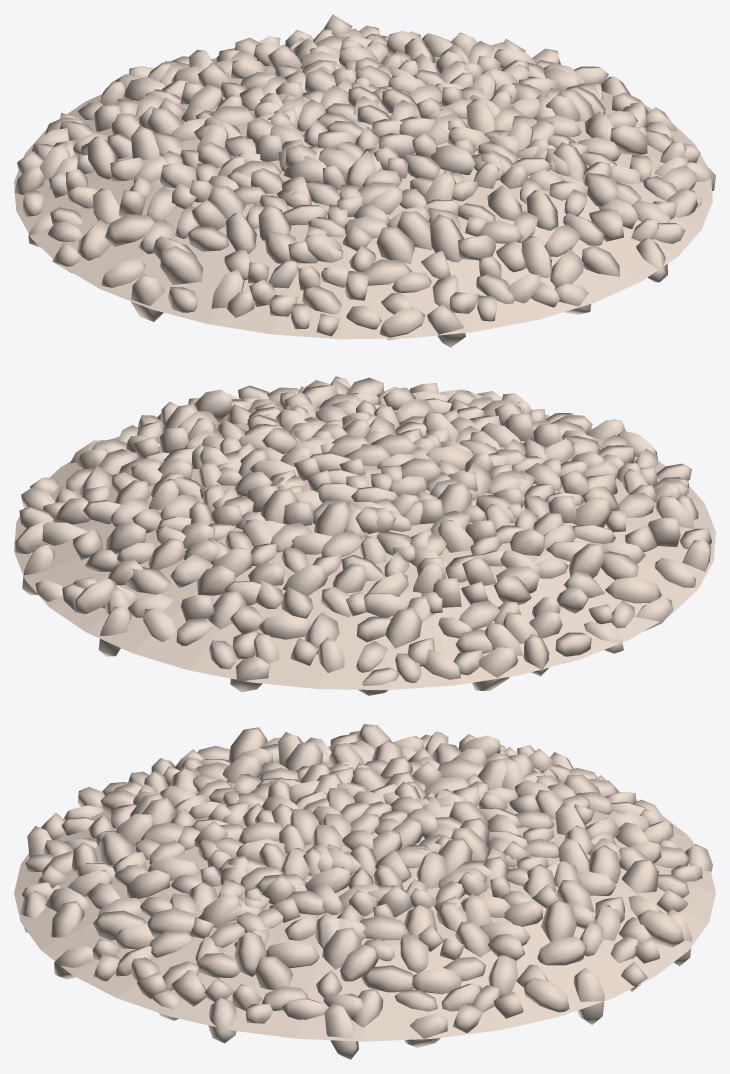
Rendered from Rise.fbx.
3 renders of one model, top to bottom at view 1: azimuth 30°, elevation 25°; view 2: azimuth 150°, elevation 25°; view 3: azimuth 270°, elevation 25°, orthographic.
Visible parts, largest first — view 1: Rice; view 2: Rice; view 3: Rice.
Boxes of the visible parts, bbox=[...] form: Rice: bbox=[14, 14, 715, 347]; Rice: bbox=[14, 376, 715, 695]; Rice: bbox=[14, 724, 715, 1059].
Size of the model in its own units: 0.535 by 0.0892 by 0.5328.
